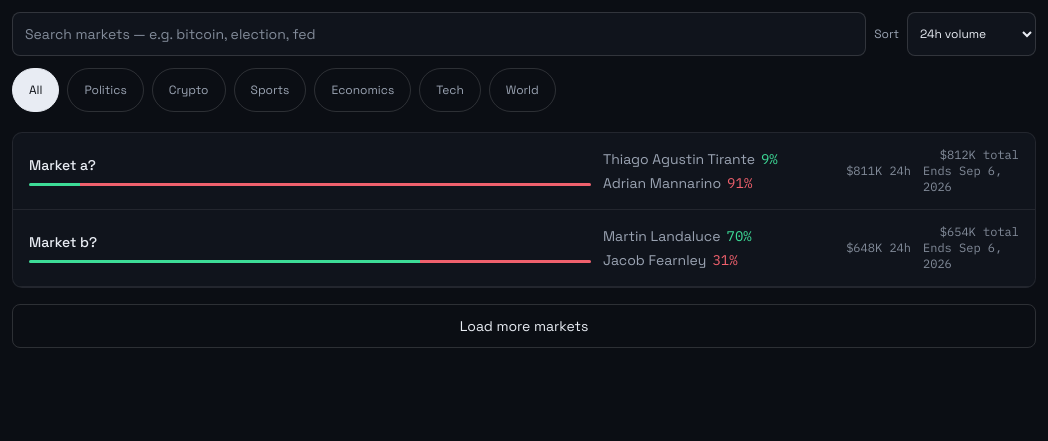
Test: Load more (UX-1) › keeps the loaded rows and explains when loading more fails
Check: the heading "Market a?" is shown, box [29,156,96,174]
Click the button "Load more markets". click: (524, 326)
box: [12,304,1036,348]
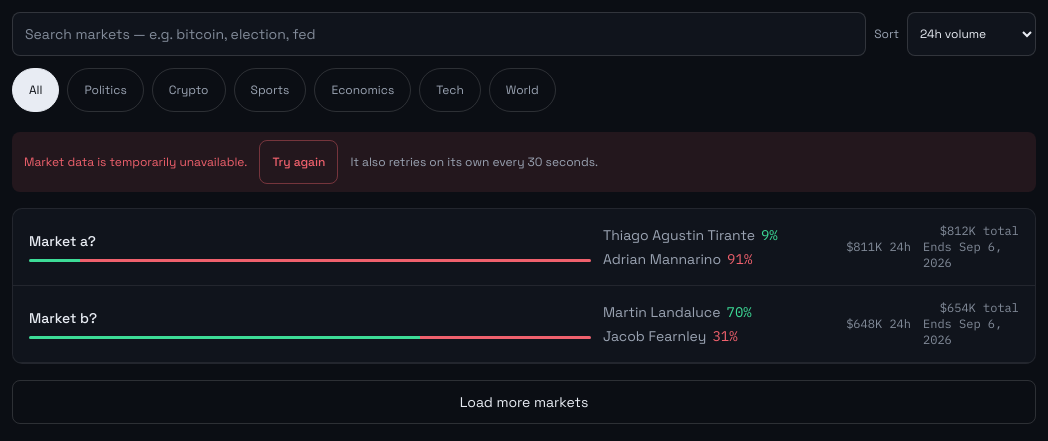
Check: the heading "Market a?" is shown, box [29,232,96,250]
Check: the message is shown, box [12,132,1036,192]
